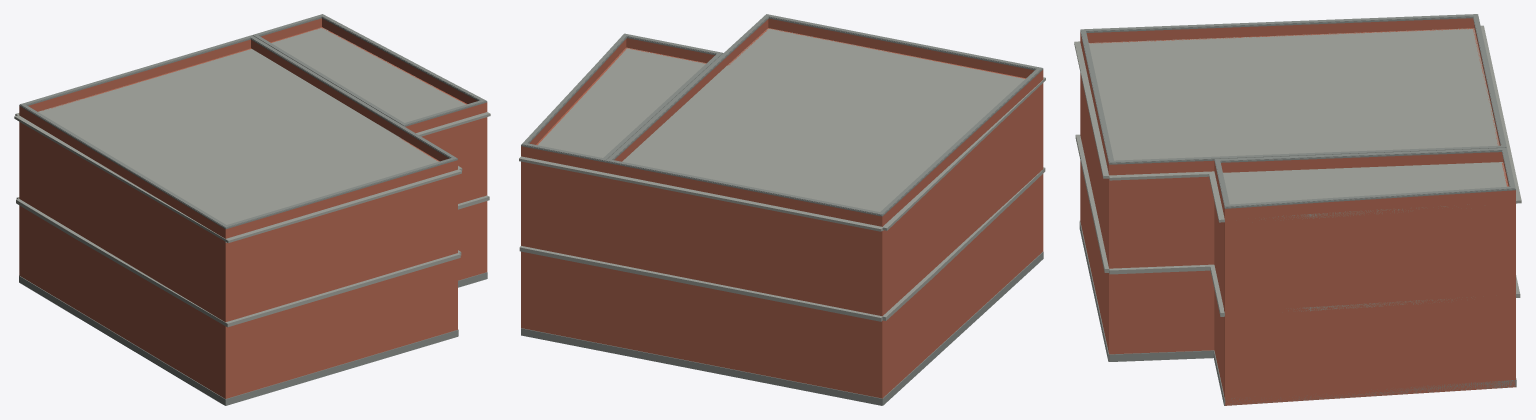
File: masa_1134299.glb
3 views of the same model, side by side, from view 1: azimuth 30°, elevation 25°; view 2: azimuth 150°, elevation 25°; view 3: azimuth 270°, elevation 25° (orthographic). The views are drawn at different scales.
Parts seen in each view (by area): view 1: roof/main:0/roof_slab#0001, main:0/edge1/z0/main:0/edge1/z0/wall_0_0, main:0/edge0/z0/main:0/edge0/z0/wall_0_0, roof/main:0/parapet#0001, roof/rear_wing:0/roof_slab#0001, rear_wing:0/edge1/z0/rear_wing:0/edge1/z0/wall_0_0/core0, roof/main:0/parapet_cap#0002, roof/rear_wing:0/parapet#0001, roof/main:0/parapet_cap#0001, main:0/edge1/z0/plinth#0001, roof/rear_wing:0/parapet_cap#0002, main:0/edge0/z0/plinth#0001 (+8 smaller); view 2: main:0/edge3/z0/main:0/edge3/z0/wall_0_0, roof/main:0/roof_slab#0001, main:0/edge0/z0/main:0/edge0/z0/wall_0_0, rear_wing:0/edge4/z0/rear_wing:0/edge4/z0/wall_0_0, roof/main:0/parapet#0001, roof/rear_wing:0/roof_slab#0001, roof/main:0/parapet_cap#0002, roof/rear_wing:0/parapet#0001, main:0/edge3/z0/plinth#0001, roof/main:0/parapet_cap#0001, roof/rear_wing:0/parapet_cap#0002, main:0/edge3/z0/floor_slab#0001 (+9 smaller); view 3: roof/main:0/roof_slab#0001, rear_wing:0/edge3/z0/rear_wing:0/edge3/z0/wall_0_0, main:0/edge2/z0/main:0/edge2/z0/wall_0_0, rear_wing:0/edge2/z0/rear_wing:0/edge2/z0/wall_0_0, roof/rear_wing:0/roof_slab#0001, roof/rear_wing:0/parapet#0001, roof/main:0/parapet#0001, main:0/edge1/z0/main:0/edge1/z0/wall_0_0, roof/main:0/parapet_cap#0002, roof/rear_wing:0/parapet_cap#0002, roof/main:0/parapet_cap#0001, roof/rear_wing:0/parapet_cap#0001 (+11 smaller).
Boxes of the visible parts, x1=… form: roof/main:0/roof_slab#0001: x1=38, y1=49, x2=438, y2=242; main:0/edge1/z0/main:0/edge1/z0/wall_0_0: x1=222, y1=175, x2=457, y2=398; main:0/edge0/z0/main:0/edge0/z0/wall_0_0: x1=19, y1=122, x2=229, y2=398; roof/main:0/parapet#0001: x1=19, y1=39, x2=457, y2=238; roof/rear_wing:0/roof_slab#0001: x1=271, y1=28, x2=465, y2=122; rear_wing:0/edge1/z0/rear_wing:0/edge1/z0/wall_0_0/core0: x1=422, y1=118, x2=482, y2=280; roof/main:0/parapet_cap#0002: x1=20, y1=35, x2=457, y2=227; roof/rear_wing:0/parapet#0001: x1=261, y1=18, x2=487, y2=133; roof/main:0/parapet_cap#0001: x1=19, y1=38, x2=457, y2=229; main:0/edge1/z0/plinth#0001: x1=225, y1=330, x2=458, y2=405; roof/rear_wing:0/parapet_cap#0002: x1=252, y1=14, x2=486, y2=125; main:0/edge0/z0/plinth#0001: x1=19, y1=275, x2=225, y2=405; main:0/edge3/z0/main:0/edge3/z0/wall_0_0: x1=605, y1=178, x2=884, y2=398; roof/main:0/roof_slab#0001: x1=622, y1=28, x2=1024, y2=230; main:0/edge0/z0/main:0/edge0/z0/wall_0_0: x1=877, y1=83, x2=1043, y2=398; rear_wing:0/edge4/z0/rear_wing:0/edge4/z0/wall_0_0: x1=521, y1=161, x2=605, y2=344; roof/main:0/parapet#0001: x1=605, y1=18, x2=1043, y2=226; roof/rear_wing:0/roof_slab#0001: x1=538, y1=48, x2=705, y2=157; roof/main:0/parapet_cap#0002: x1=606, y1=14, x2=1042, y2=214; roof/rear_wing:0/parapet#0001: x1=521, y1=38, x2=714, y2=172; main:0/edge3/z0/plinth#0001: x1=605, y1=344, x2=882, y2=405; roof/main:0/parapet_cap#0001: x1=605, y1=17, x2=1043, y2=216; roof/rear_wing:0/parapet_cap#0002: x1=521, y1=33, x2=722, y2=160; main:0/edge3/z0/floor_slab#0001: x1=603, y1=262, x2=882, y2=321; roof/main:0/roof_slab#0001: x1=1088, y1=28, x2=1499, y2=160; rear_wing:0/edge3/z0/rear_wing:0/edge3/z0/wall_0_0: x1=1310, y1=201, x2=1515, y2=400; main:0/edge2/z0/main:0/edge2/z0/wall_0_0: x1=1109, y1=176, x2=1214, y2=353; rear_wing:0/edge2/z0/rear_wing:0/edge2/z0/wall_0_0: x1=1224, y1=214, x2=1310, y2=405; roof/rear_wing:0/roof_slab#0001: x1=1223, y1=162, x2=1507, y2=219; roof/rear_wing:0/parapet#0001: x1=1214, y1=152, x2=1515, y2=219; roof/main:0/parapet#0001: x1=1080, y1=18, x2=1500, y2=175; main:0/edge1/z0/main:0/edge1/z0/wall_0_0: x1=1080, y1=73, x2=1114, y2=354; roof/main:0/parapet_cap#0002: x1=1080, y1=14, x2=1506, y2=163; roof/rear_wing:0/parapet_cap#0002: x1=1215, y1=148, x2=1515, y2=207; roof/main:0/parapet_cap#0001: x1=1080, y1=14, x2=1506, y2=164; roof/rear_wing:0/parapet_cap#0001: x1=1214, y1=148, x2=1515, y2=208.
Bounding box in the file's own units: 15.8 × 7.47 × 15.22.
